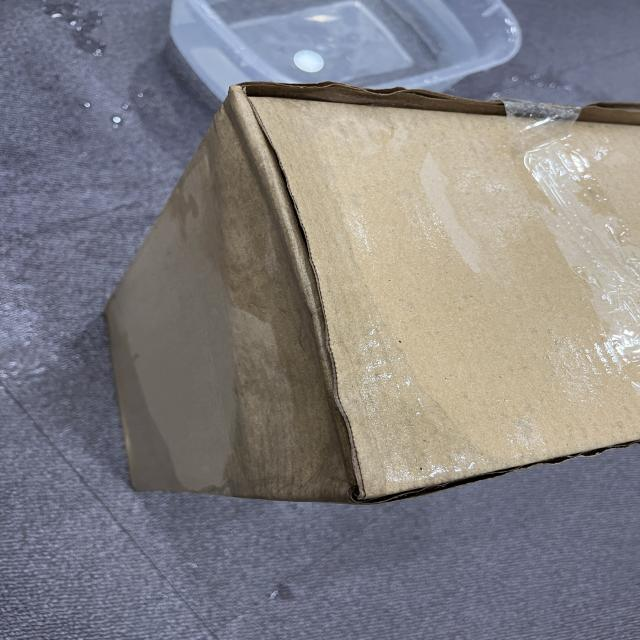wet: (174, 80, 640, 492)
